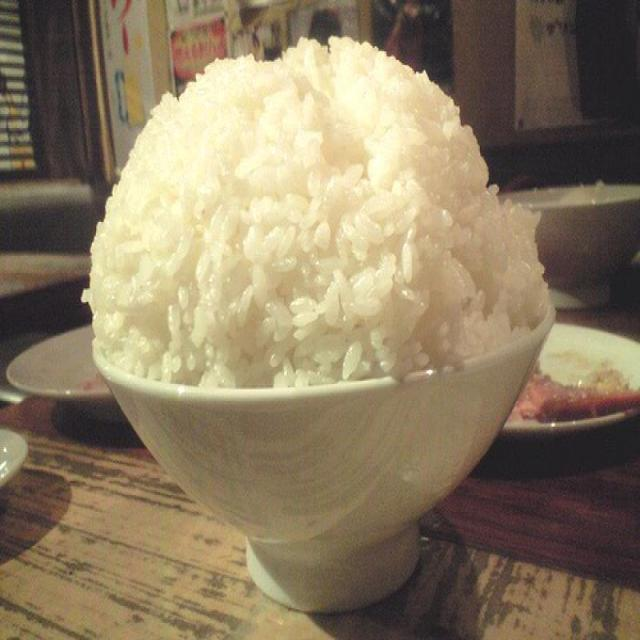rice: (91, 31, 547, 388)
